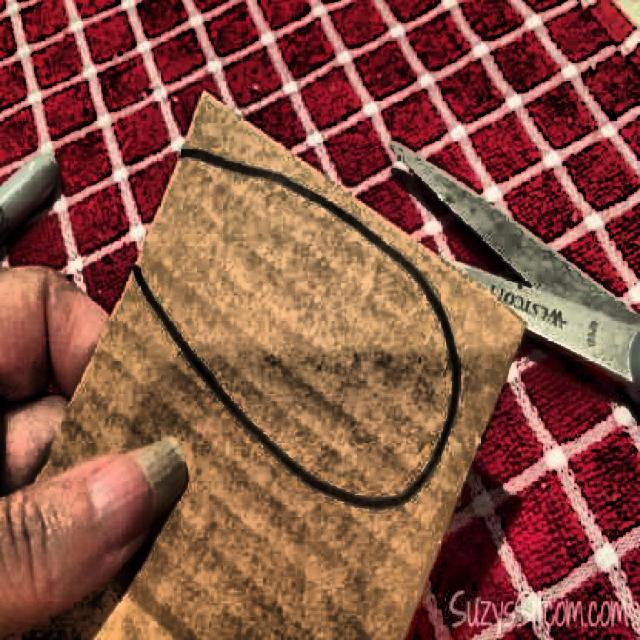Cardbox: (4, 83, 529, 640)
